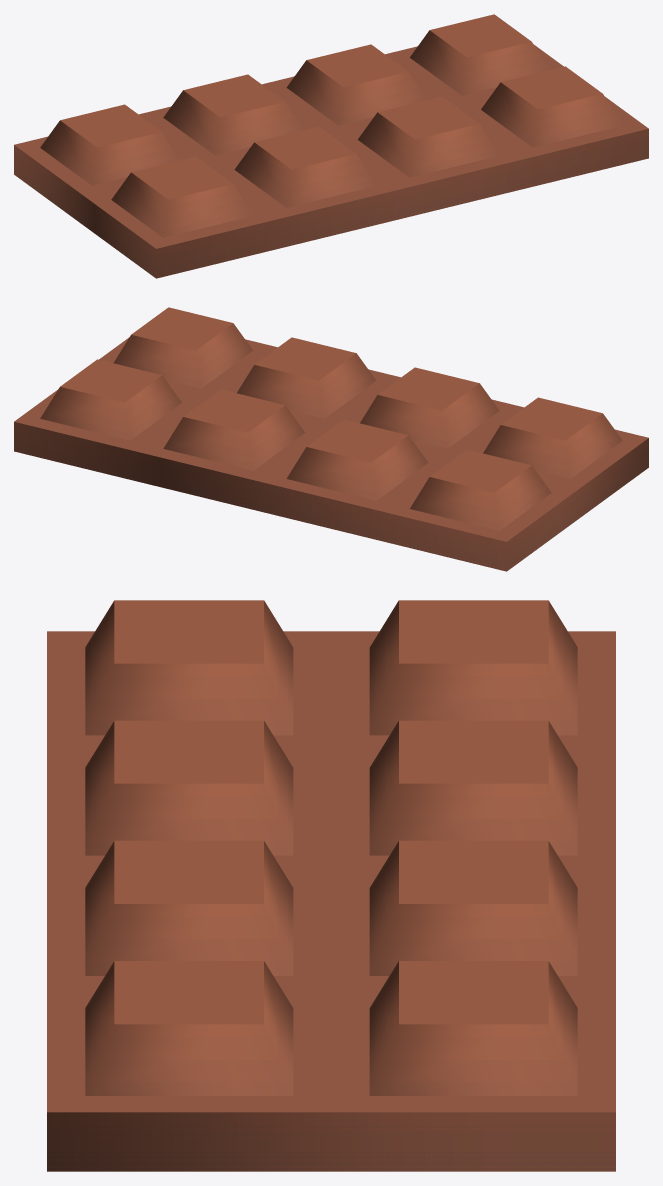
File: chocolate.glb
3 renders of one model, top to bottom at view 1: azimuth 30°, elevation 25°; view 2: azimuth 150°, elevation 25°; view 3: azimuth 270°, elevation 25°, orthographic. The views are drawn at different scales.
Visible parts, largest first — view 1: chocolate; view 2: chocolate; view 3: chocolate.
Boxes of the visible parts, x1,y1,x2,y2 form: chocolate: (14,14,648,278); chocolate: (14,307,648,571); chocolate: (47,600,615,1171).
Bounding box in the file's own units: 0.2924 × 0.0337 × 0.1462.
1 material, 1 textured.
